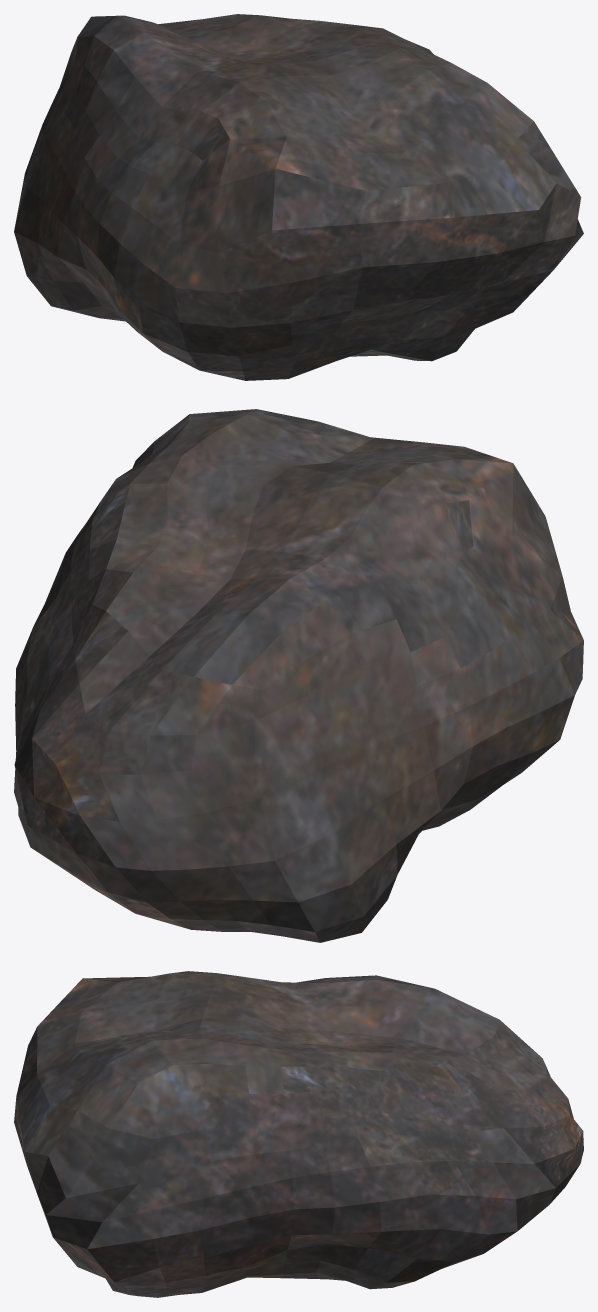
File: asteroid-1.obj
3 views of the same model, one above another, from view 1: azimuth 30°, elevation 25°; view 2: azimuth 150°, elevation 25°; view 3: azimuth 270°, elevation 25° (orthographic). The views are drawn at different scales.
Parts seen in each view (by area): view 1: Cube; view 2: Cube; view 3: Cube.
Part boxes in pixels (x1,y1,x2,y2): Cube: [14, 14, 583, 380]; Cube: [14, 409, 583, 942]; Cube: [14, 971, 583, 1297].
Bounding box in the file's own units: 2.24 × 1.55 × 2.96.
1 material, 1 textured.
